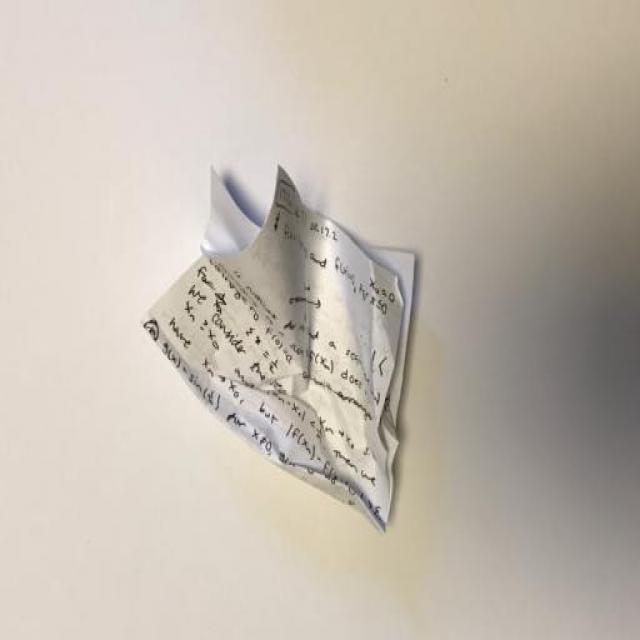paper: (138, 170, 443, 545)
